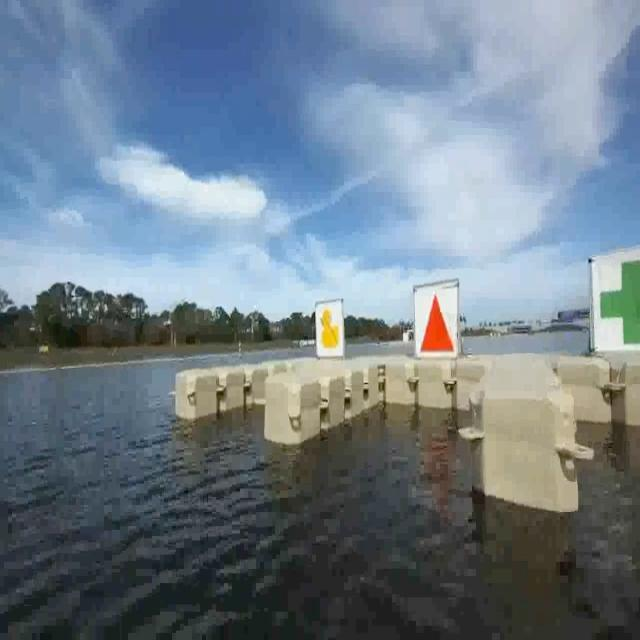blue-cross: (593, 256, 640, 350)
red-dot: (410, 281, 457, 359)
yellow-duck: (320, 306, 340, 350)
